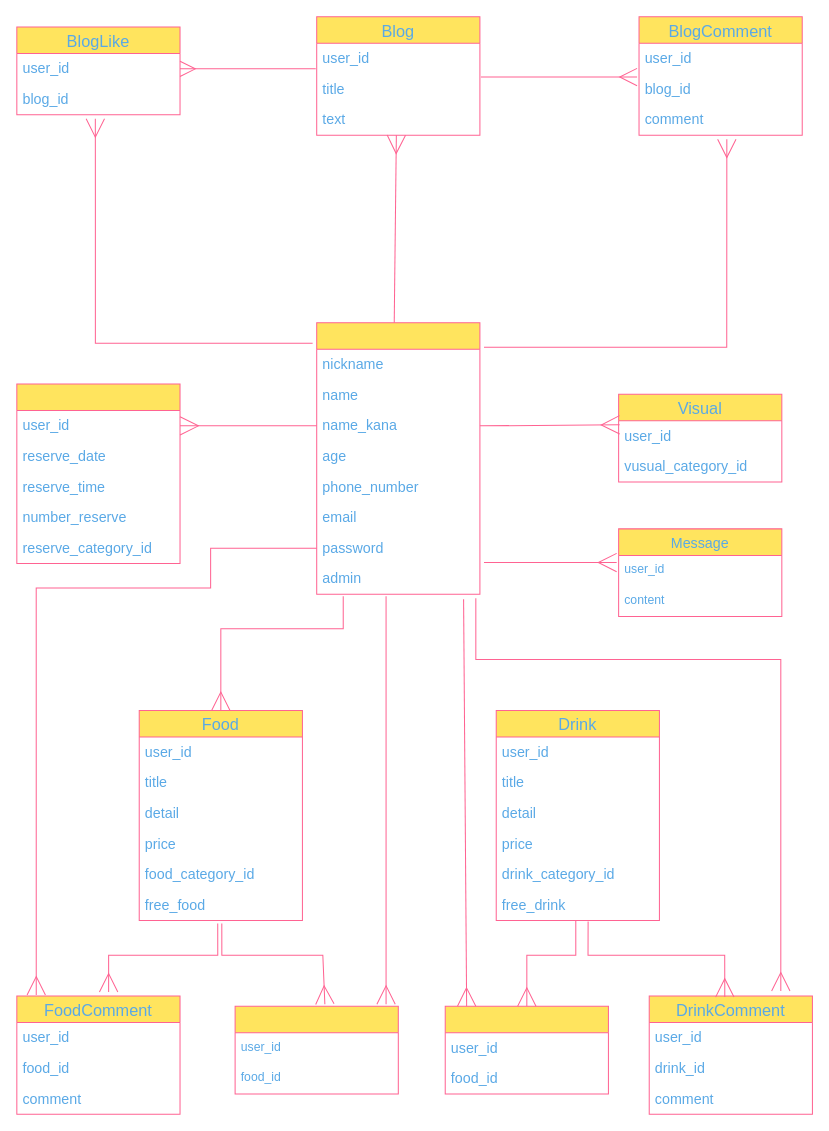
The diagram is 829 pixels wide and 1131 high, and some of its shapes have lost their labels. The shapes that lost their labels are listed below. From the top down, each one's box as (x1, y1, x2, y2) in pixels, then its label:
(16, 383, 180, 564): Book
(316, 322, 480, 594): User
(234, 1005, 398, 1094): FoodLike
(444, 1005, 608, 1094): DrinkLike
